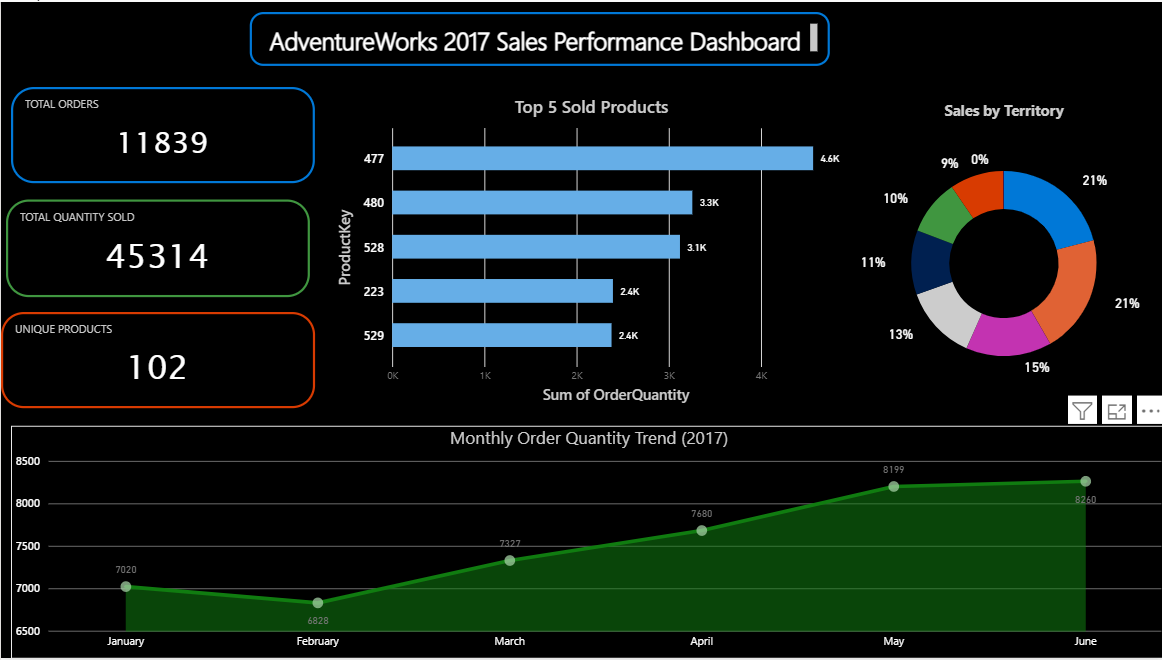

What the dashboard file says about the page in this screenshot:
{"tool":"powerbi","page":{"name":"Page 1","canvas":[1280,720],"ordinal":0},"visuals":[{"type":"card","title":"TOTAL ORDERS","fields":{"Values":["Count(AdventureWorks_Sales_2017.OrderNumber)"]},"box":[11,93.3,333.4,105.7],"z":0},{"type":"card","title":"TOTAL QUANTITY SOLD","fields":{"Values":["Sum(AdventureWorks_Sales_2017.OrderQuantity)"]},"box":[5.5,216.8,333.4,107],"z":1},{"type":"card","title":"UNIQUE PRODUCTS","fields":{"Values":["Count(AdventureWorks_Sales_2017.ProductKey)"]},"box":[0,340.3,344.4,105.7],"z":2},{"type":"donutChart","title":"Sales by Territory","fields":{"Category":["AdventureWorks_Sales_2017.TerritoryKey"],"Y":["Sum(AdventureWorks_Sales_2017.OrderQuantity)"]},"box":[931.7,107,338.9,338.9],"z":3},{"type":"lineChart","title":"Monthly Order Quantity Trend (2017)","fields":{"Y":["Sum(AdventureWorks_Sales_2017.OrderQuantity)"],"Category":["AdventureWorks_Sales_2017.OrderDate.Variation.Date Hierarchy.Month"]},"box":[11,465.2,1269.3,255.2],"z":4},{"type":"clusteredBarChart","title":"Top 5 Sold Products","fields":{"Category":["AdventureWorks_Sales_2017.ProductKey"],"Y":["Sum(AdventureWorks_Sales_2017.OrderQuantity)"]},"box":[365,101.5,566.7,344.4],"z":5},{"type":"textbox","box":[273.1,11,636.7,59],"z":7}]}

Visuals, with their boxes in screenshot pixels (x1, y1, x2, y2), scaled from the page's 1280x720 canvas onto the 1162x660 screenshot:
"TOTAL ORDERS" card: box=[10, 86, 313, 182]
"TOTAL QUANTITY SOLD" card: box=[5, 199, 308, 297]
"UNIQUE PRODUCTS" card: box=[0, 312, 313, 409]
"Sales by Territory" donutChart: box=[846, 98, 1153, 409]
"Monthly Order Quantity Trend (2017)" lineChart: box=[10, 426, 1161, 659]
"Top 5 Sold Products" clusteredBarChart: box=[331, 93, 846, 409]
textbox: box=[248, 10, 826, 64]
